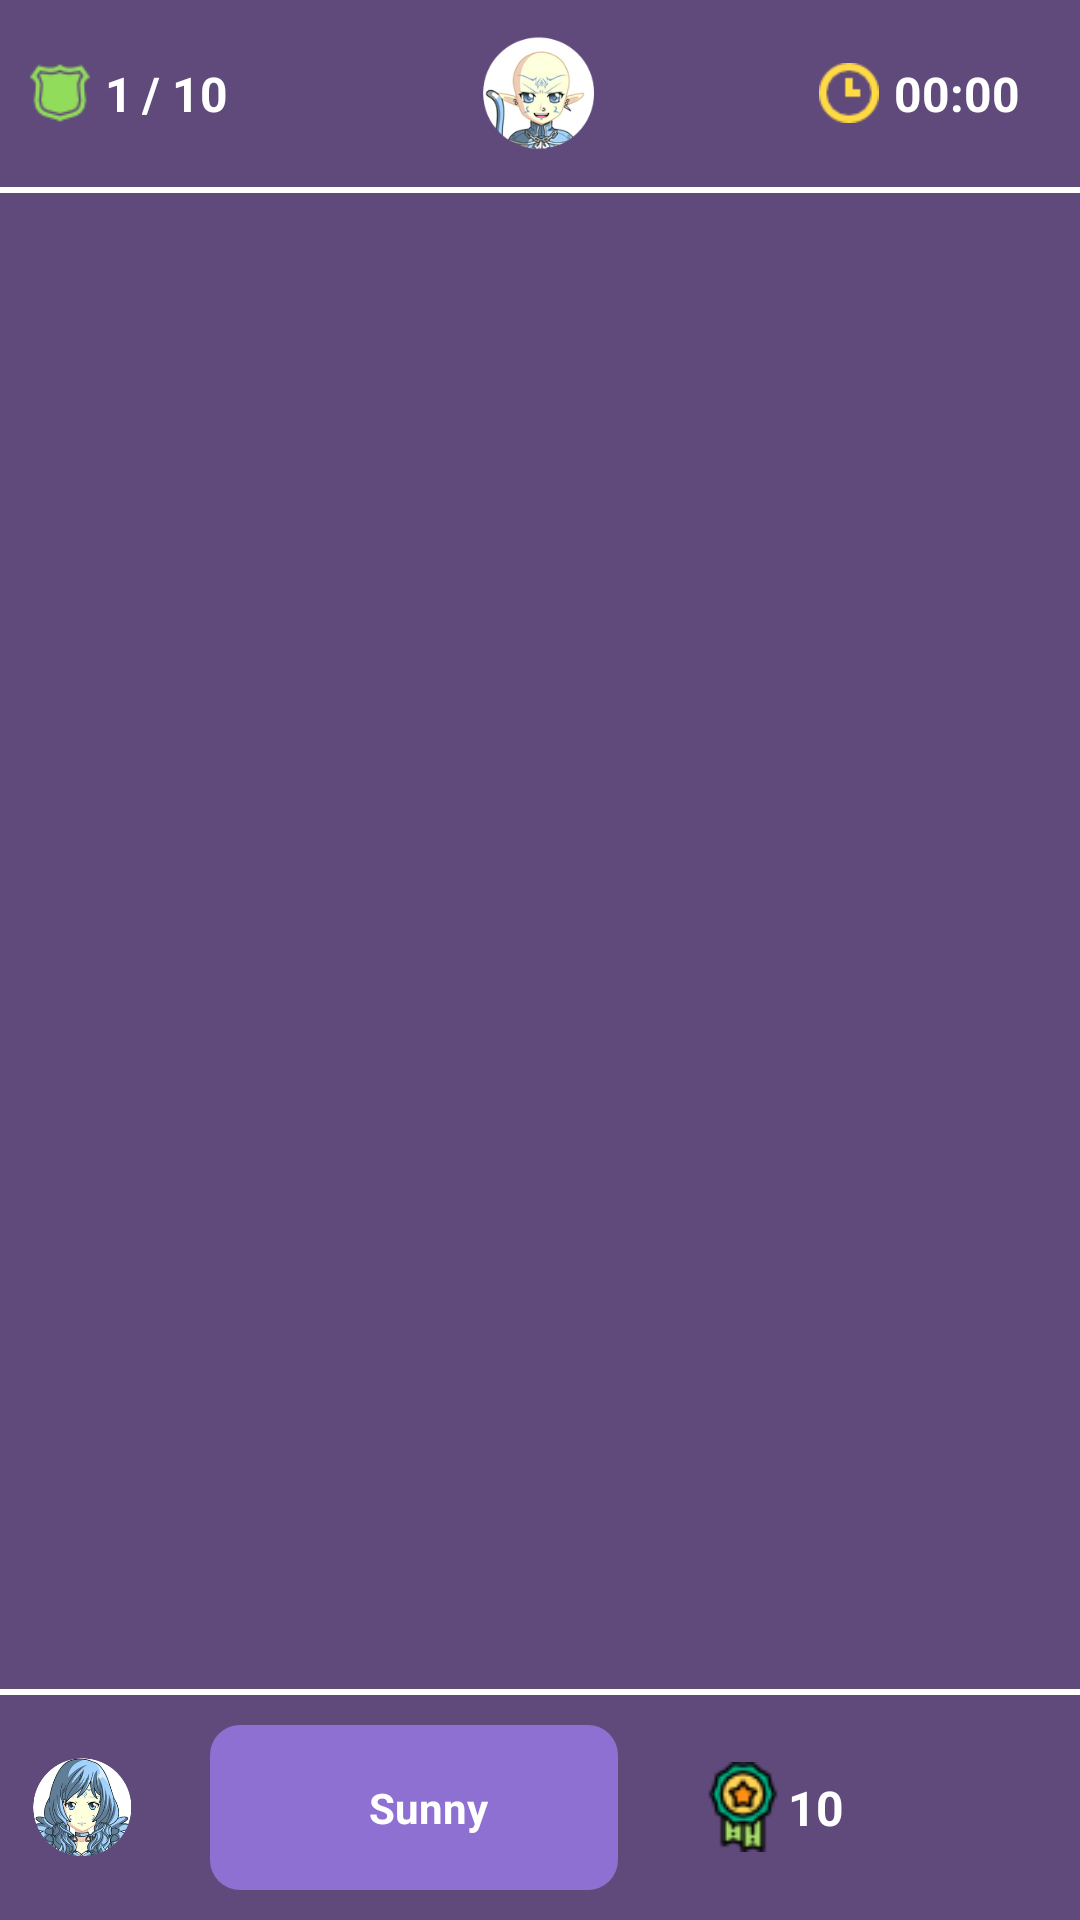

Named icons in this screenshot (1080w x 1920h) and their bounding boxes, (x1, y1, x2, y2):
time: (819, 63, 879, 123)
